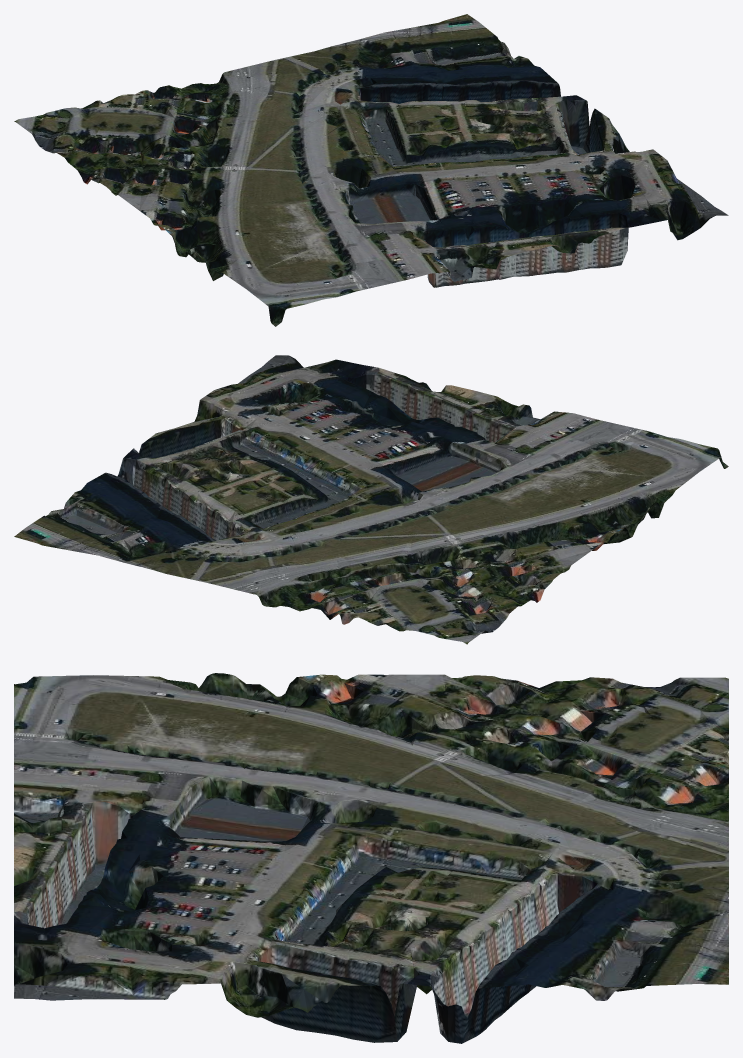
Rendered from map_13_2043_3449.dae.
3 renders of one model, top to bottom at view 1: azimuth 30°, elevation 25°; view 2: azimuth 150°, elevation 25°; view 3: azimuth 270°, elevation 25°, orthographic. The views are drawn at different scales.
Visible parts, largest first — view 1: Ter0; view 2: Ter0; view 3: Ter0.
Part boxes in pixels (x1,y1,x2,y2): Ter0: (14,14,728,326); Ter0: (14,355,728,644); Ter0: (14,673,728,1043).
Bounding box in the file's own units: 256 × 256 × 29.3.
Materials: 3 (3 with a texture image).
